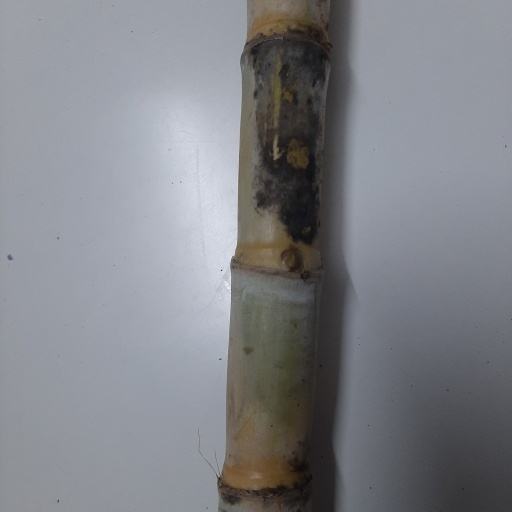Bud: (282, 246, 305, 274)
